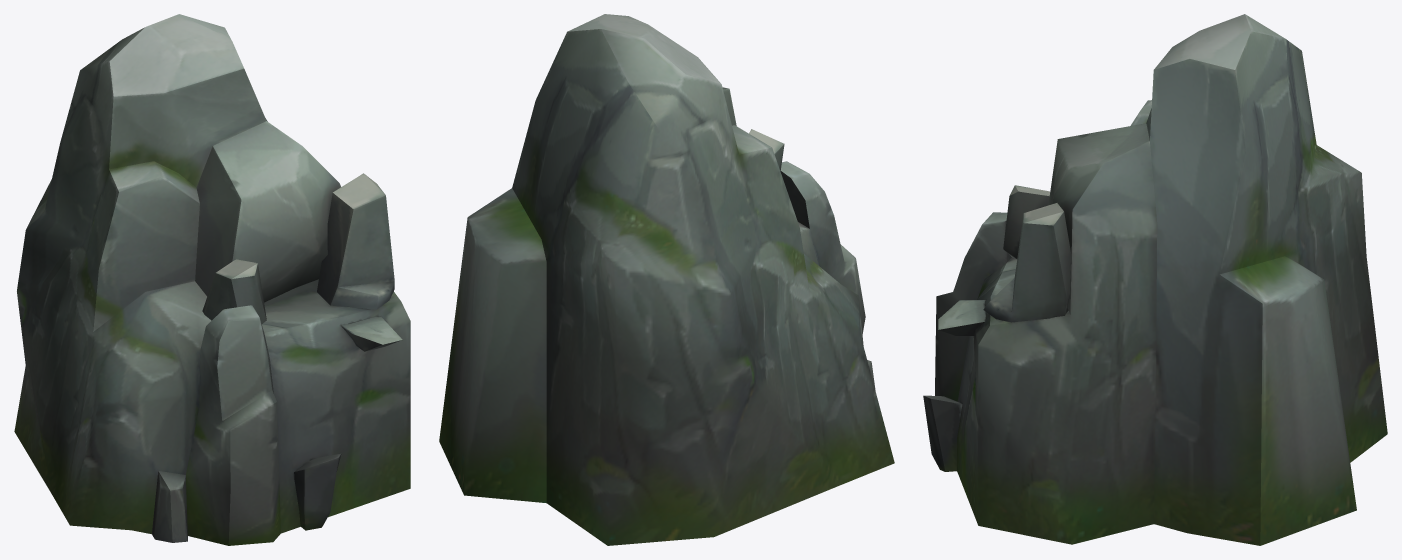
The model's file is scene_shenmisenlin_strone04.FBX.
3 views of the same model, side by side, from view 1: azimuth 30°, elevation 25°; view 2: azimuth 150°, elevation 25°; view 3: azimuth 270°, elevation 25° (orthographic). The views are drawn at different scales.
Parts seen in each view (by area): view 1: scene_shenmisenlin_strone04; view 2: scene_shenmisenlin_strone04; view 3: scene_shenmisenlin_strone04.
Part boxes in pixels (left/top/right/bottom): scene_shenmisenlin_strone04: left=14, top=14, right=410, bottom=545; scene_shenmisenlin_strone04: left=439, top=14, right=894, bottom=545; scene_shenmisenlin_strone04: left=923, top=14, right=1387, bottom=545.
Size of the model in its own units: 513 by 603 by 578.
